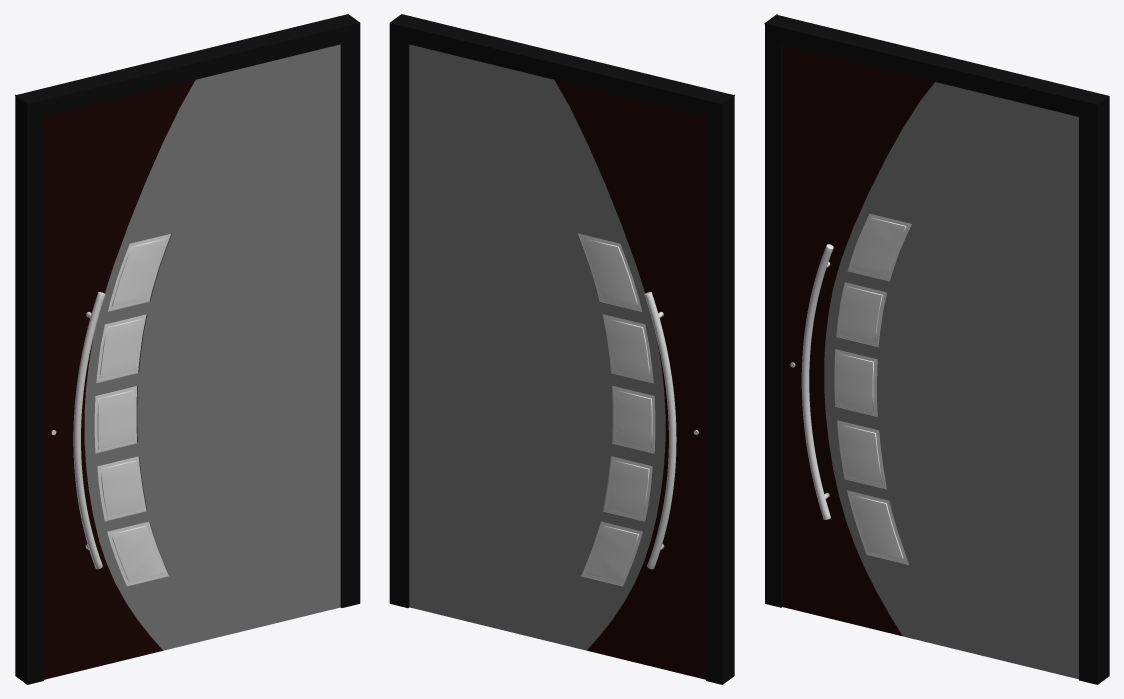
Rendered from usa_var2_mare.fbx.
The picture shows the model from 3 angles, left to right: view 1: azimuth 30°, elevation 25°; view 2: azimuth 150°, elevation 25°; view 3: azimuth 330°, elevation 25°; orthographic projection.
Parts seen in each view (by area): view 1: Line006, Rectangle008, Box022, Arc006, Box020, Box021, Cylinder008; view 2: Line006, Rectangle008, Box022, Arc006, Box020, Box021, Cylinder008; view 3: Line006, Rectangle008, Box020, Arc006, Box022, Box021, Cylinder008.
Part boxes in pixels (x1,y1,x2,y2): Line006: [84, 44, 340, 650]; Rectangle008: [44, 80, 195, 679]; Box022: [15, 94, 43, 684]; Arc006: [94, 234, 170, 586]; Box020: [340, 23, 360, 607]; Box021: [15, 14, 359, 116]; Cylinder008: [73, 292, 105, 569]; Line006: [409, 44, 665, 650]; Rectangle008: [554, 80, 705, 679]; Box022: [706, 94, 734, 684]; Arc006: [579, 233, 655, 585]; Box020: [389, 23, 409, 607]; Box021: [390, 14, 734, 116]; Cylinder008: [644, 292, 676, 569]; Line006: [824, 82, 1078, 679]; Rectangle008: [782, 45, 934, 636]; Box020: [1079, 96, 1109, 684]; Arc006: [835, 214, 911, 564]; Box022: [765, 14, 782, 607]; Box021: [764, 15, 1109, 116]; Cylinder008: [801, 244, 833, 519].
Size of the model in its own units: 59.21 by 98.57 by 7.74.
